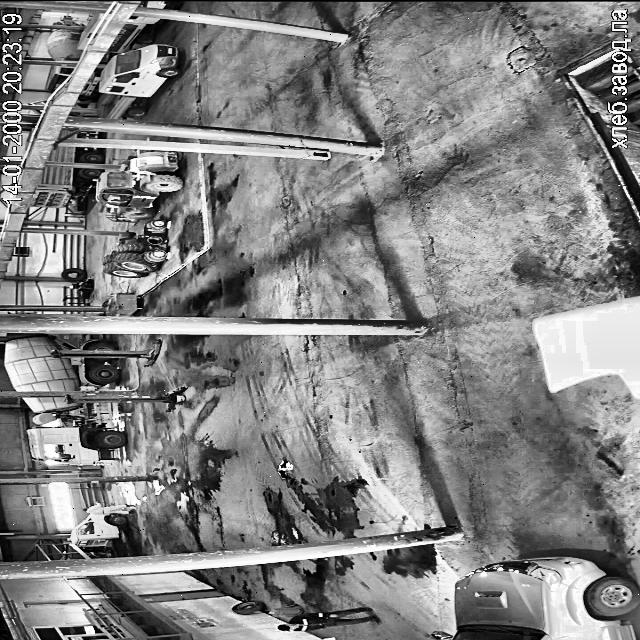class4: (277, 608, 379, 631), (84, 504, 133, 514)
class6: (96, 152, 182, 222), (103, 220, 165, 278)
class7: (22, 396, 124, 464), (4, 334, 118, 392), (99, 44, 180, 118), (28, 166, 101, 207), (69, 514, 125, 548), (108, 16, 157, 52), (46, 30, 81, 60), (49, 146, 103, 163), (78, 12, 102, 48), (45, 66, 73, 92), (78, 69, 98, 102), (140, 0, 178, 8), (74, 132, 99, 140), (53, 18, 76, 24), (60, 130, 71, 136)
mechanic: (432, 557, 638, 640)
tractor: (268, 605, 300, 616)
truck: (66, 387, 186, 411), (52, 340, 161, 366)
